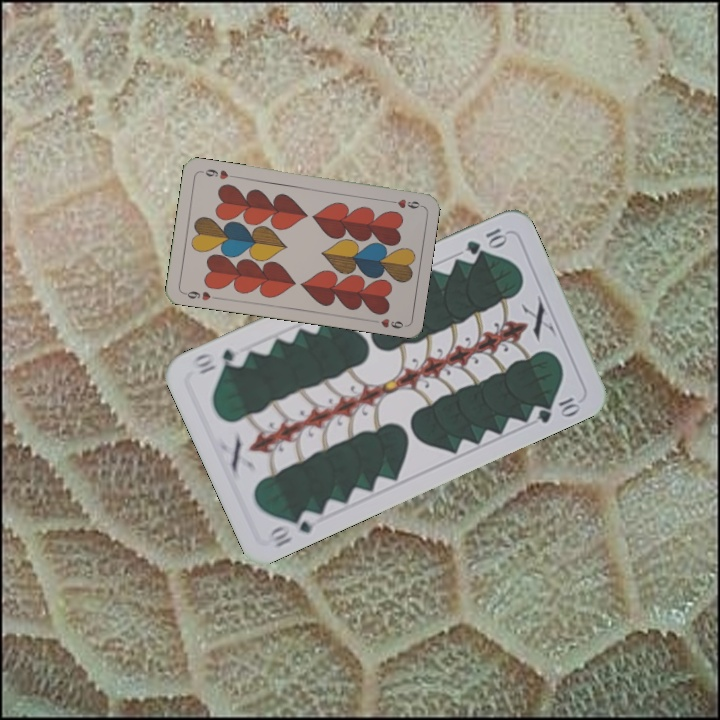G10: (266, 506, 322, 550), (462, 224, 510, 257)
H9: (180, 287, 220, 303), (384, 195, 424, 211)
